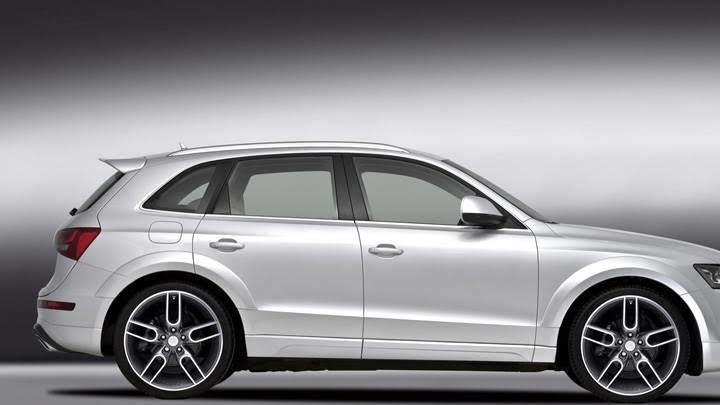audi: (35, 121, 720, 401)
